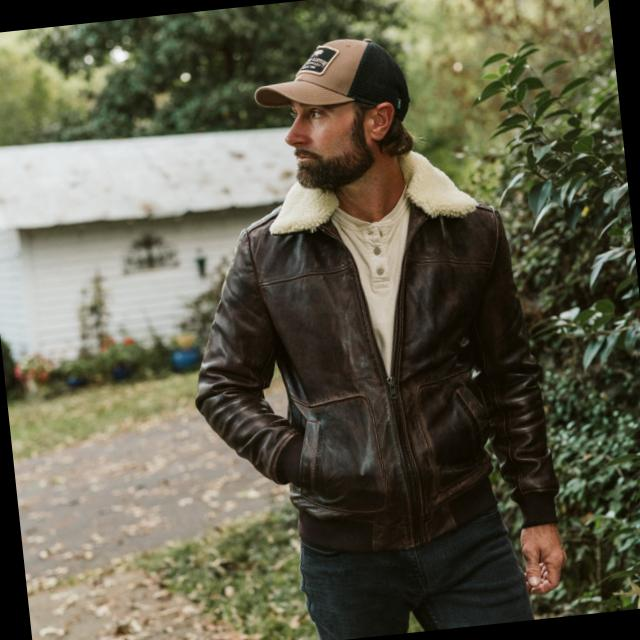Jacket: (166, 162, 564, 590)
